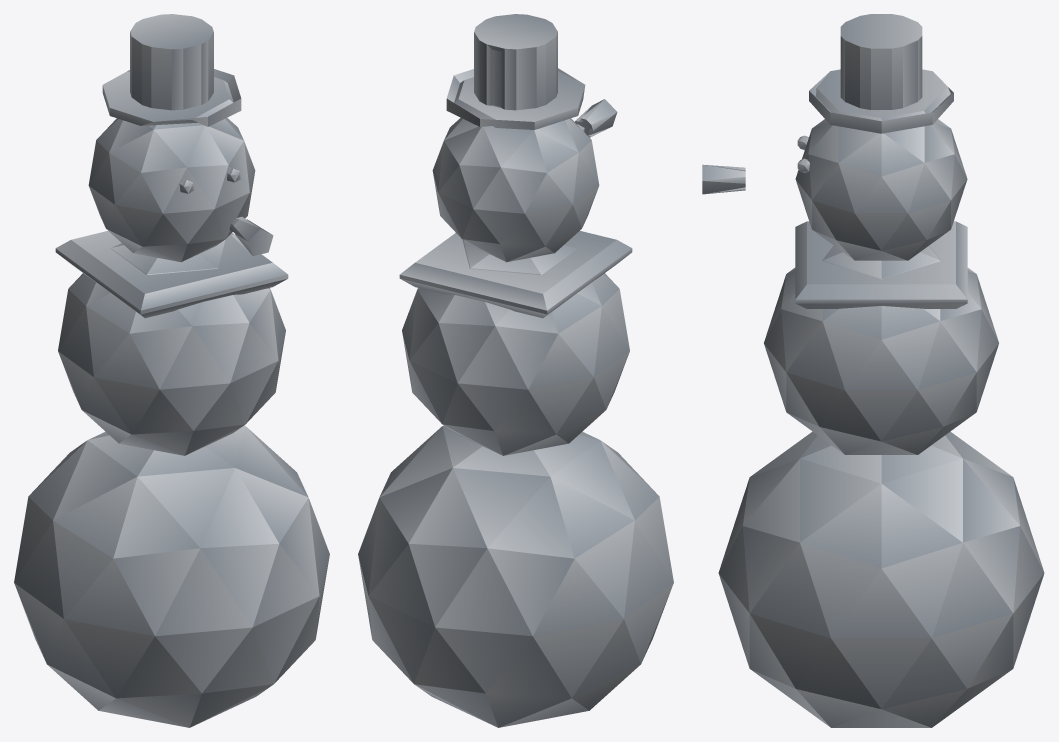
Rendered from dt_snowman.fbx.
3 views of the same model, side by side, from view 1: azimuth 30°, elevation 25°; view 2: azimuth 150°, elevation 25°; view 3: azimuth 270°, elevation 25° (orthographic).
Parts seen in each view (by area): view 1: dt_snowman; view 2: dt_snowman; view 3: dt_snowman.
Part boxes in pixels (box(x1,y1,x2,y2)): dt_snowman: box(14, 14, 329, 727); dt_snowman: box(358, 14, 673, 727); dt_snowman: box(702, 14, 1044, 727).
Bounding box in the file's own units: 326 × 800 × 360.
